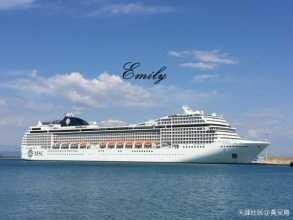youlun: (18, 104, 271, 161)
